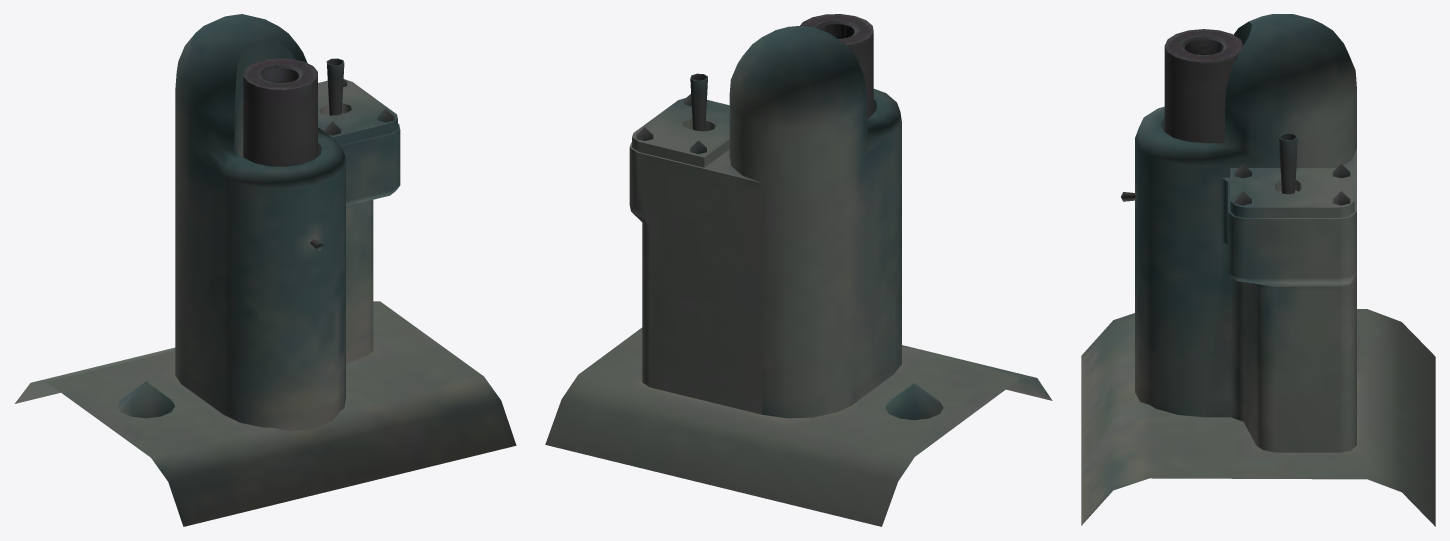
The model's file is Gun_04.glb.
3 renders of one model, left to right at view 1: azimuth 30°, elevation 25°; view 2: azimuth 150°, elevation 25°; view 3: azimuth 270°, elevation 25°, orthographic. The views are drawn at different scales.
Parts seen in each view (by area): view 1: set_0_group_0; view 2: set_0_group_0; view 3: set_0_group_0.
Boxes of the visible parts, bbox=[...] form: set_0_group_0: bbox=[15, 14, 516, 526]; set_0_group_0: bbox=[545, 14, 1052, 526]; set_0_group_0: bbox=[1081, 14, 1435, 526].
Size of the model in its own units: 0.379 by 0.4306 by 0.3331.
1 material, 1 textured.
